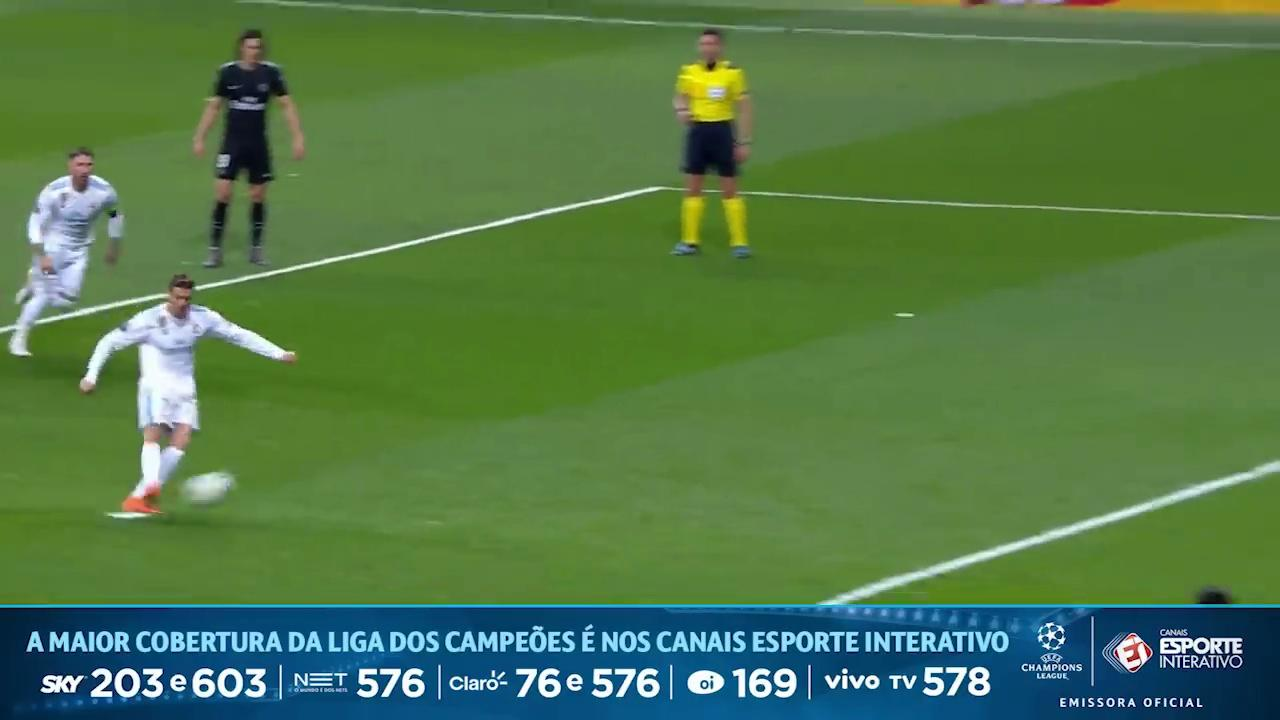football: (182, 471, 234, 505)
player: (80, 275, 295, 512), (193, 29, 304, 267), (9, 148, 123, 356)
referee: (673, 29, 752, 257)
